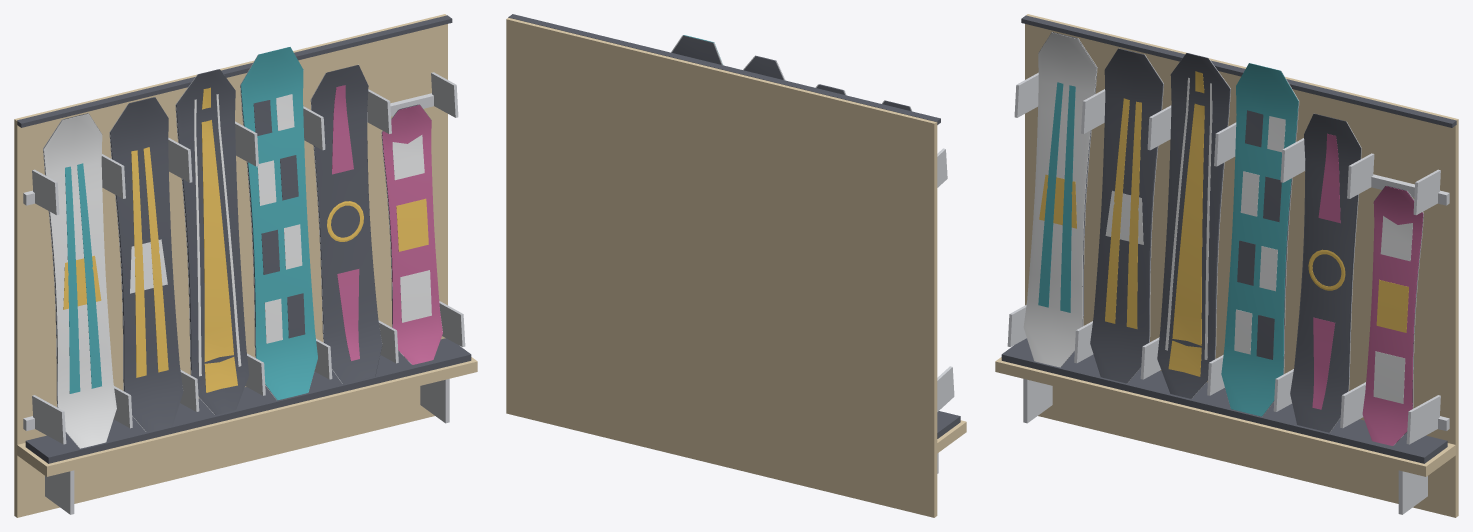
Rendered from snowboard-gear-and-freestyle-riders-wall-board-rack-st-e0552cbf__27176.glb.
3 views of the same model, side by side, from view 1: azimuth 30°, elevation 25°; view 2: azimuth 150°, elevation 25°; view 3: azimuth 330°, elevation 25° (orthographic).
Parts seen in each view (by area): view 1: wall-board-rack-stocked; view 2: wall-board-rack-stocked; view 3: wall-board-rack-stocked.
Boxes of the visible parts, x1,y1,x2,y2 form: wall-board-rack-stocked: [14, 14, 477, 517]; wall-board-rack-stocked: [506, 14, 966, 517]; wall-board-rack-stocked: [995, 14, 1458, 517].
Size of the model in its own units: 2.16 by 1.98 by 0.3016.
